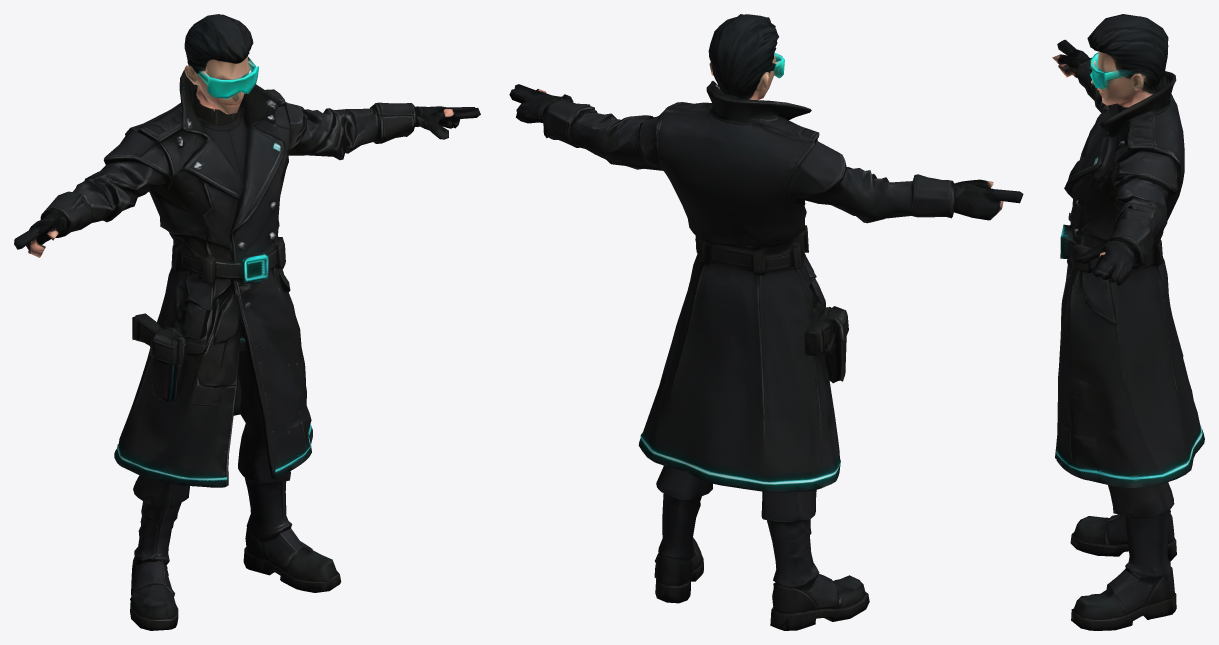
File: agent_01.glb
The picture shows the model from 3 angles, left to right: view 1: azimuth 30°, elevation 25°; view 2: azimuth 150°, elevation 25°; view 3: azimuth 270°, elevation 25°; orthographic projection. The views are drawn at different scales.
Visible parts, largest first — view 1: tripo_node_c98f7729-a6ad-46be-addf-359ab5286e12; view 2: tripo_node_c98f7729-a6ad-46be-addf-359ab5286e12; view 3: tripo_node_c98f7729-a6ad-46be-addf-359ab5286e12.
Part boxes in pixels (x1,y1,x2,y2): tripo_node_c98f7729-a6ad-46be-addf-359ab5286e12: (14, 14, 480, 630); tripo_node_c98f7729-a6ad-46be-addf-359ab5286e12: (509, 14, 1023, 630); tripo_node_c98f7729-a6ad-46be-addf-359ab5286e12: (1052, 14, 1204, 630).
Bounding box in the file's own units: 0.8622 × 0.9798 × 0.2393.
1 material, 1 textured.
